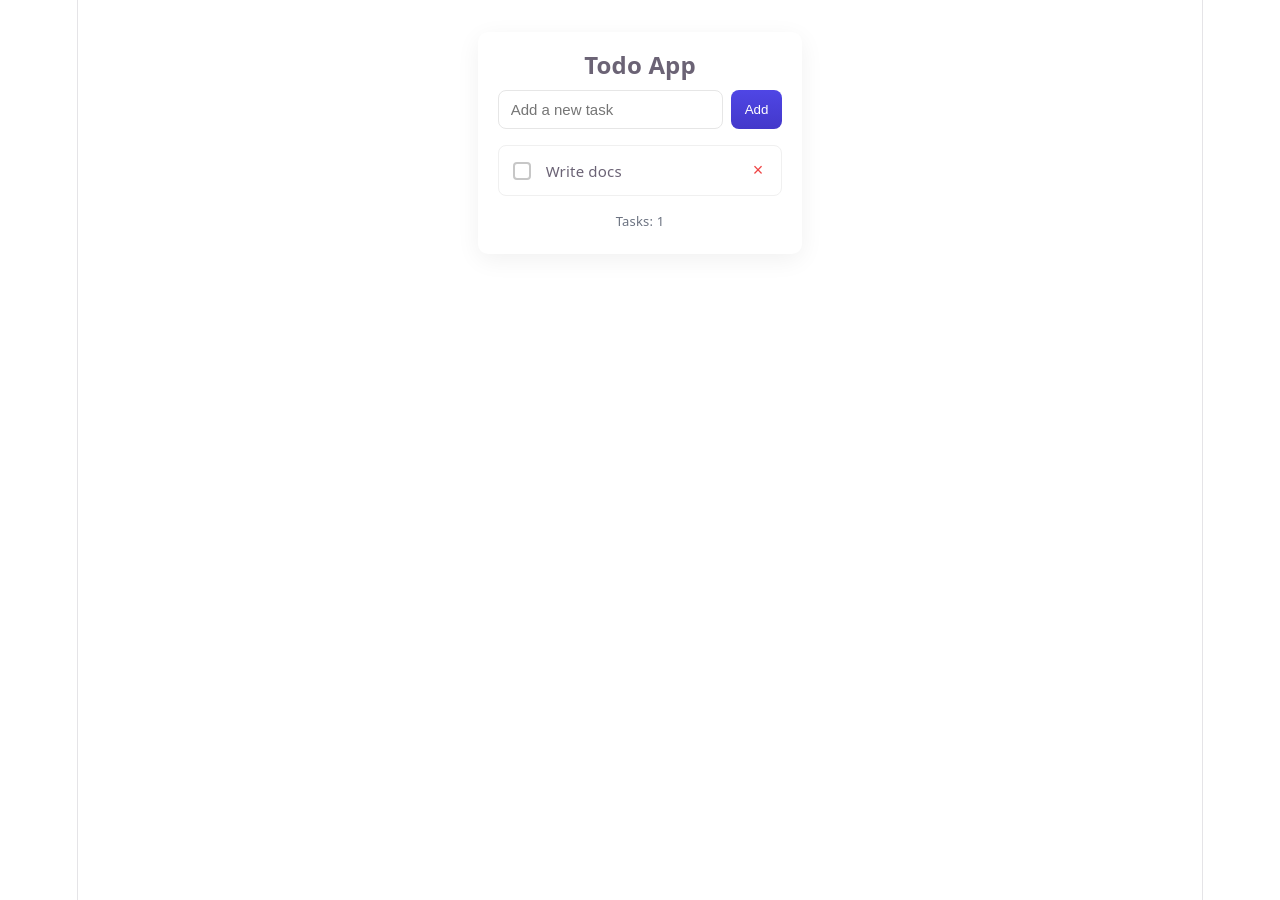
Test case: App › deletes a todo item
Click the button named "Delete Write docs": point(758, 171) [745,156,771,185]
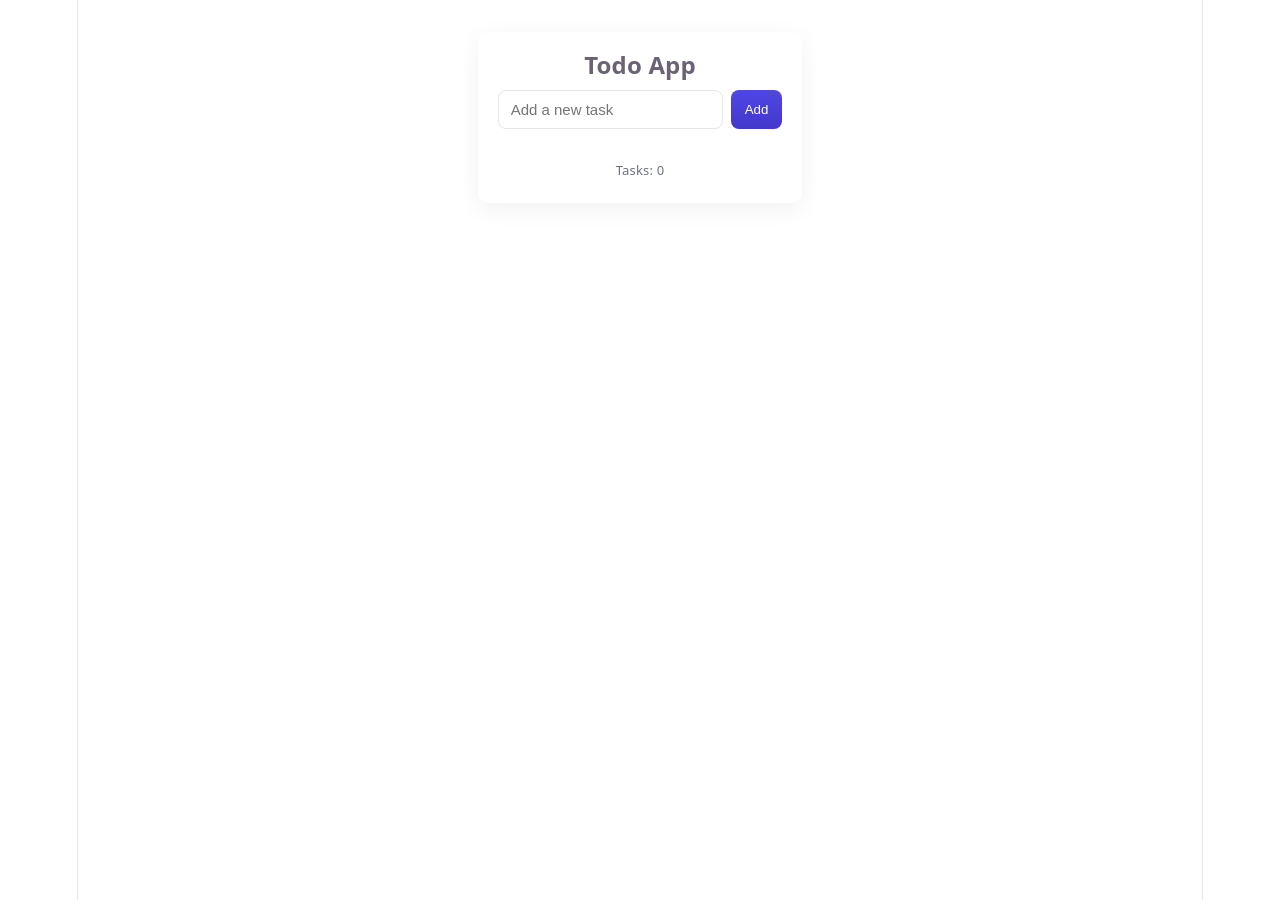
Now the text "Write docs" is gone
